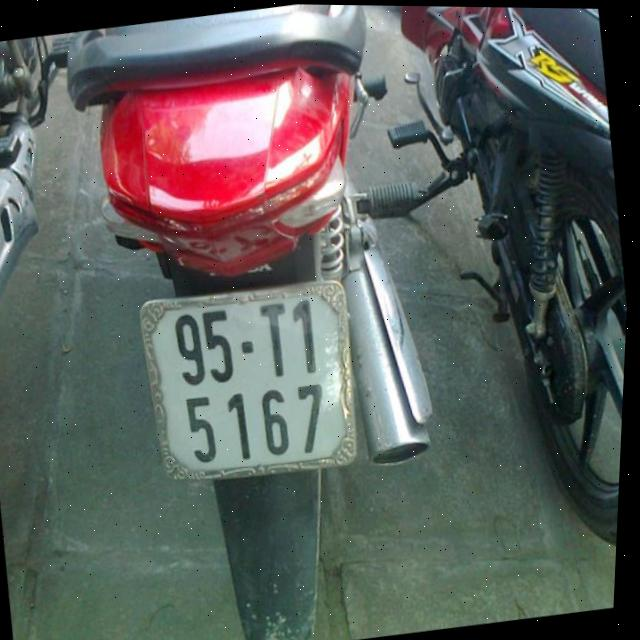motorcycle: (35, 1, 494, 640), (353, 6, 640, 621)
plate: (125, 263, 378, 498)
